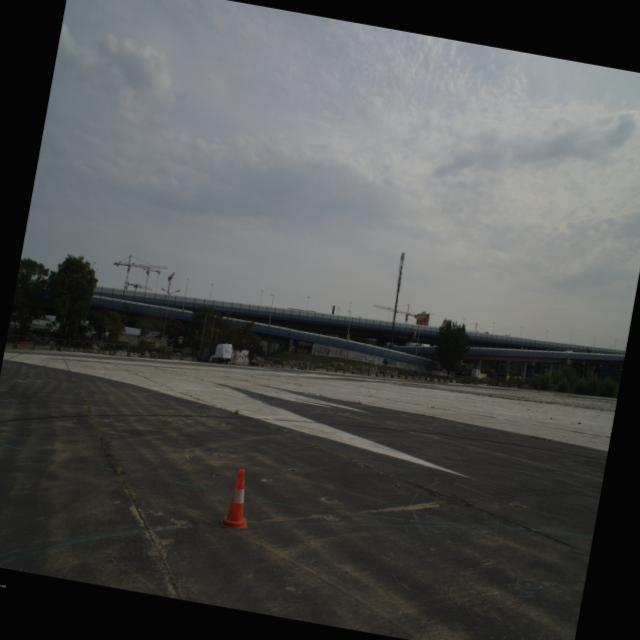orange_cone: (219, 467, 256, 531)
